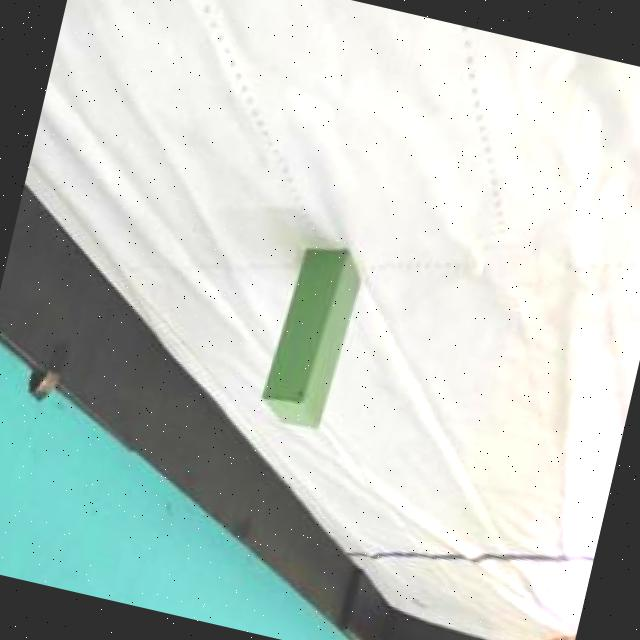greenbox: (251, 237, 366, 436)
